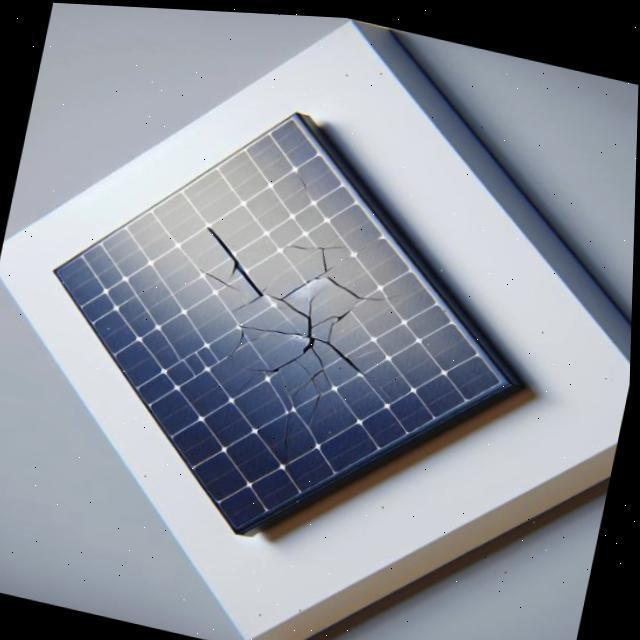Anomaly Solar Panel: (55, 94, 506, 552)
Structural Damage: (218, 249, 403, 434), (191, 212, 266, 309), (278, 231, 349, 270), (322, 270, 401, 301), (193, 261, 244, 289), (278, 267, 322, 298), (284, 409, 294, 456), (293, 164, 310, 188)
